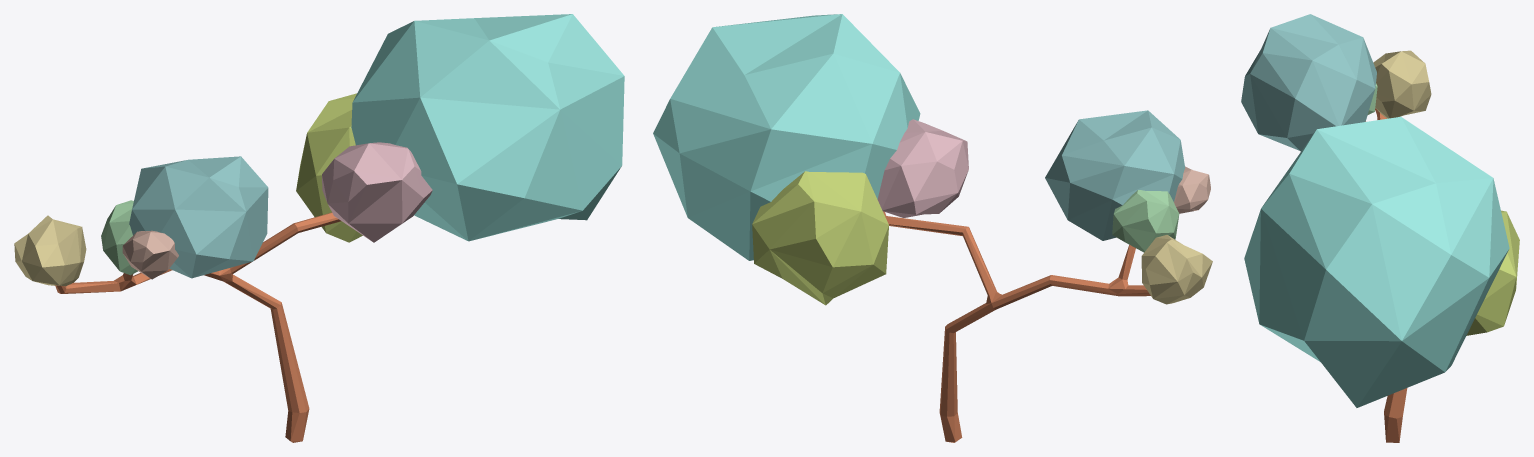
The model's file is lowpolytree.fbx.
3 views of the same model, side by side, from view 1: azimuth 30°, elevation 25°; view 2: azimuth 150°, elevation 25°; view 3: azimuth 270°, elevation 25° (orthographic). The views are drawn at different scales.
Visible parts, largest first — view 1: Icosphere; view 2: Icosphere; view 3: Icosphere.
Boxes of the visible parts, <box> form: Icosphere: <box>14,14,624,442</box>; Icosphere: <box>653,14,1212,442</box>; Icosphere: <box>1241,14,1519,442</box>.
Bounding box in the file's own units: 295 × 189 × 122.
